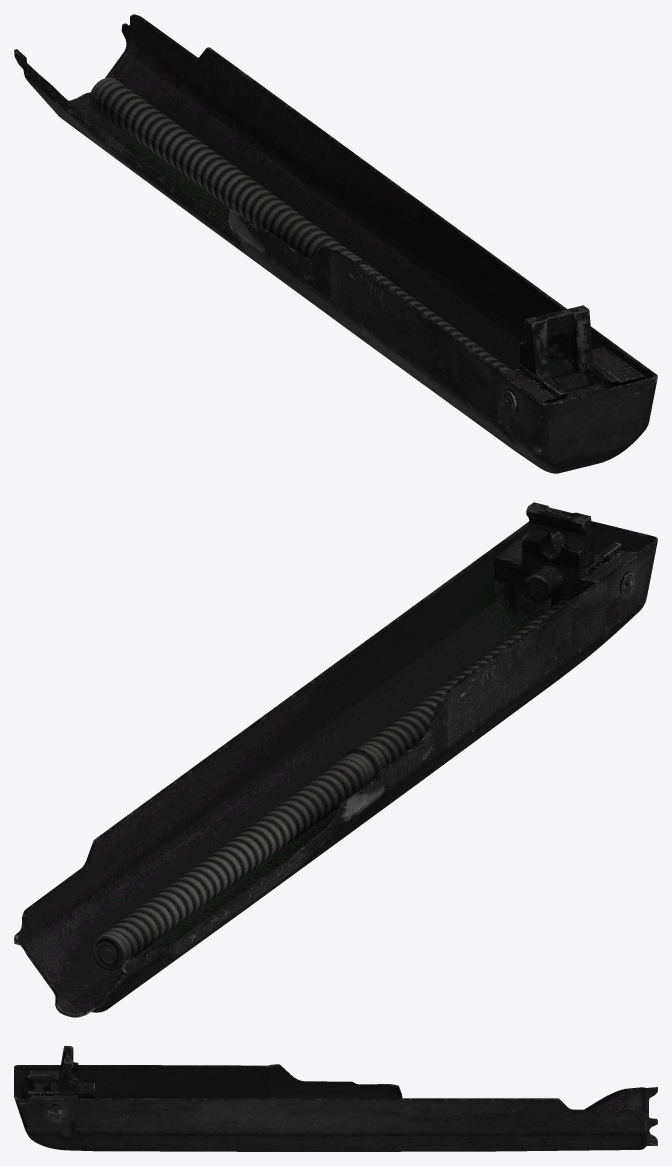
3 views of the same model, one above another, from view 1: azimuth 30°, elevation 25°; view 2: azimuth 150°, elevation 25°; view 3: azimuth 270°, elevation 25° (orthographic). The views are drawn at different scales.
Visible parts, largest first — view 1: TW_5c471bd12e221602b4129c3a_PZ_Import; view 2: TW_5c471bd12e221602b4129c3a_PZ_Import; view 3: TW_5c471bd12e221602b4129c3a_PZ_Import.
Boxes of the visible parts, x1,y1,x2,y2 form: TW_5c471bd12e221602b4129c3a_PZ_Import: [14, 14, 657, 473]; TW_5c471bd12e221602b4129c3a_PZ_Import: [14, 502, 657, 1017]; TW_5c471bd12e221602b4129c3a_PZ_Import: [14, 1046, 657, 1151].
Size of the model in its own units: 0.0229 by 0.1761 by 0.0278.
1 material, 1 textured.
